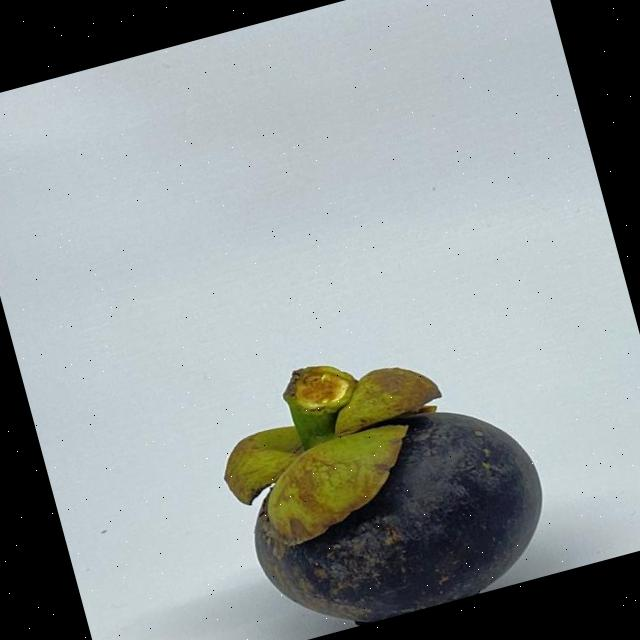mangosteen: (190, 302, 577, 640)
